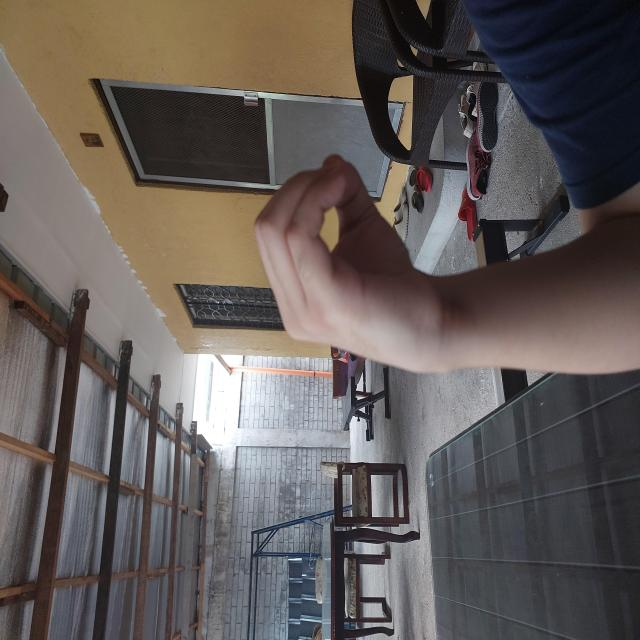O: (264, 251, 488, 445)
